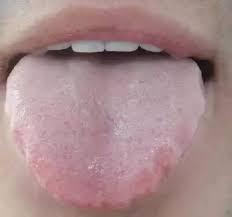baitaishe: (4, 54, 206, 212)
chihenshe: (151, 126, 198, 181)
